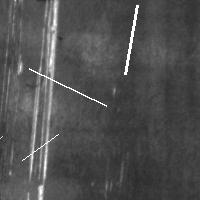scratches: (24, 1, 60, 199), (24, 64, 111, 111), (120, 0, 142, 79), (17, 129, 63, 165), (0, 131, 7, 162)
